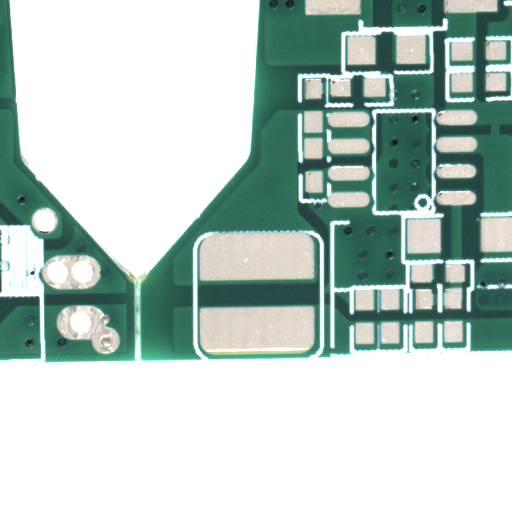Short: (495, 129, 512, 148)
